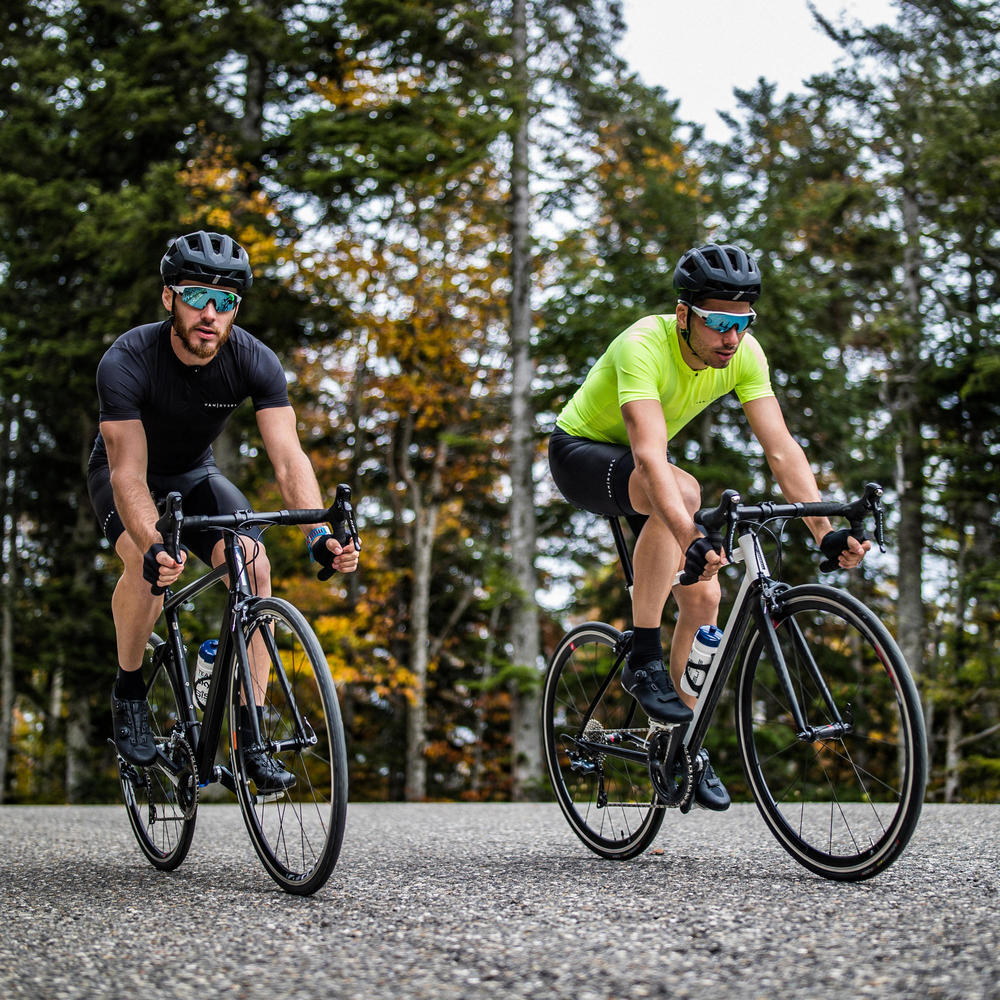RoadBike: (538, 488, 925, 889), (109, 518, 345, 906)
